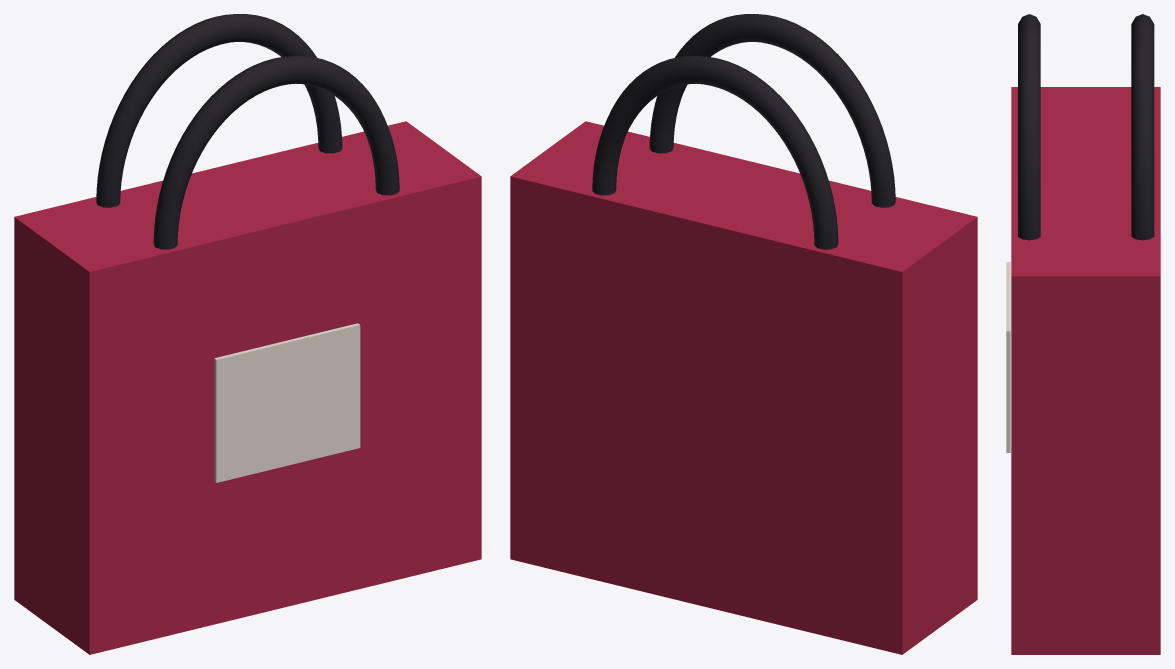
File: bag.glb
3 renders of one model, left to right at view 1: azimuth 30°, elevation 25°; view 2: azimuth 150°, elevation 25°; view 3: azimuth 270°, elevation 25°, orthographic.
Parts seen in each view (by area): view 1: DRAFT_bag; view 2: DRAFT_bag; view 3: DRAFT_bag.
Boxes of the visible parts, box(x1,y1,x2,y2) form: DRAFT_bag: box(14, 14, 481, 654); DRAFT_bag: box(510, 14, 977, 654); DRAFT_bag: box(1006, 14, 1160, 654).
Size of the model in its own units: 0.3 by 0.3963 by 0.1035.
